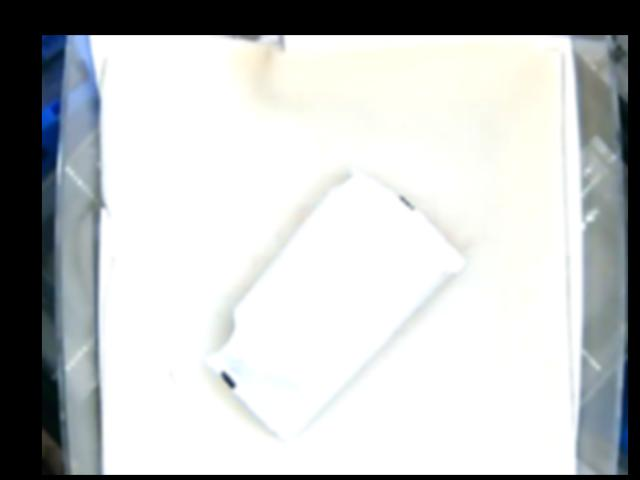Medicine: (204, 167, 459, 440)
